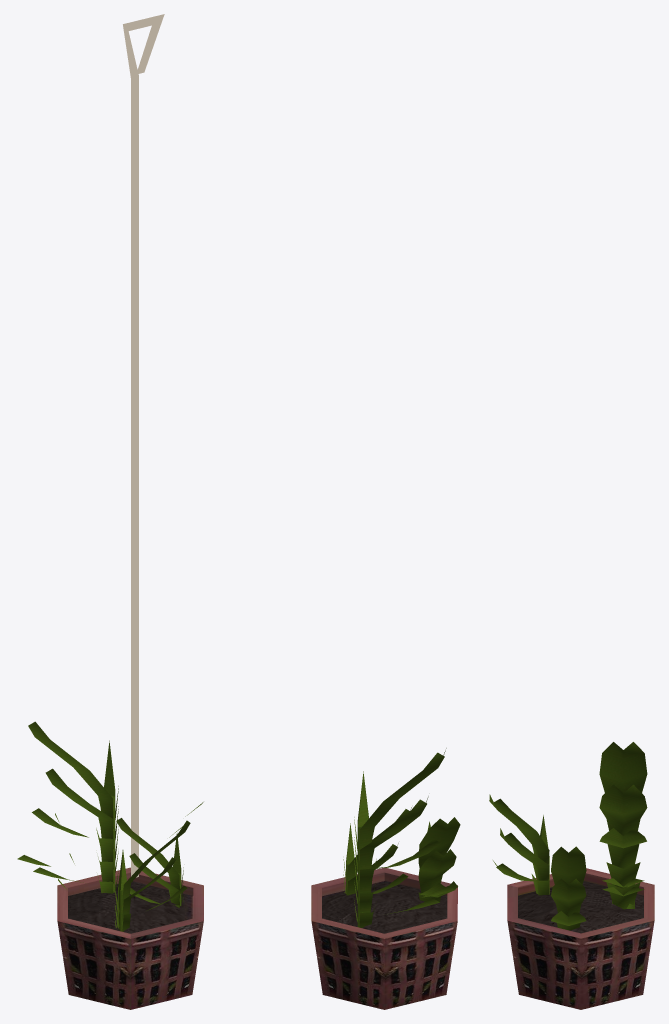
File: cay-nhan.glb
The picture shows the model from 3 angles, left to right: view 1: azimuth 30°, elevation 25°; view 2: azimuth 150°, elevation 25°; view 3: azimuth 270°, elevation 25°; orthographic projection.
Parts seen in each view (by area): view 1: Nh?n; view 2: Nh?n; view 3: Nh?n.
Part boxes in pixels (x1,y1,x2,y2): Nh?n: (17, 14, 203, 1009); Nh?n: (311, 748, 460, 1009); Nh?n: (489, 742, 654, 1009).
Bounding box in the file's own units: 0.156 × 0.7377 × 0.1148.
1 material, 1 textured.
